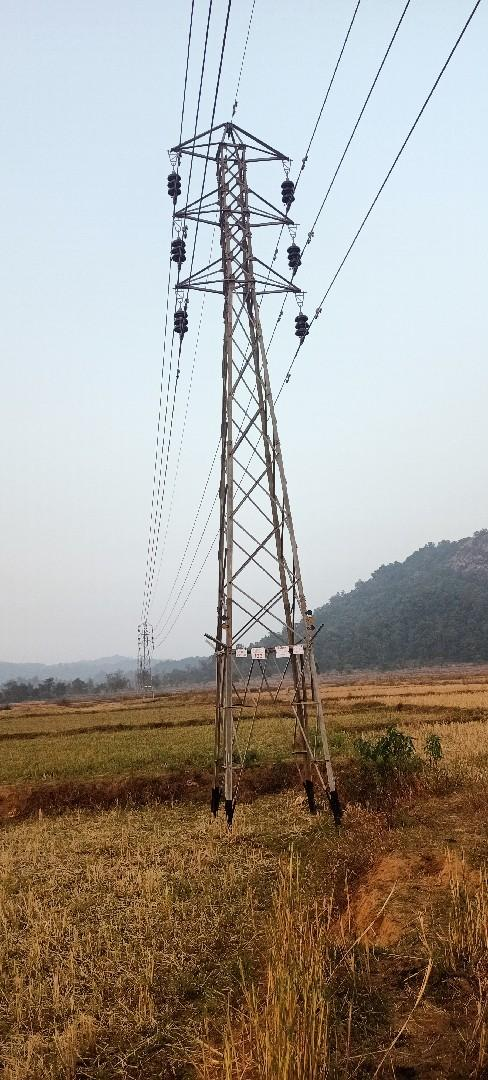GSM Antenna: (134, 113, 340, 780)
